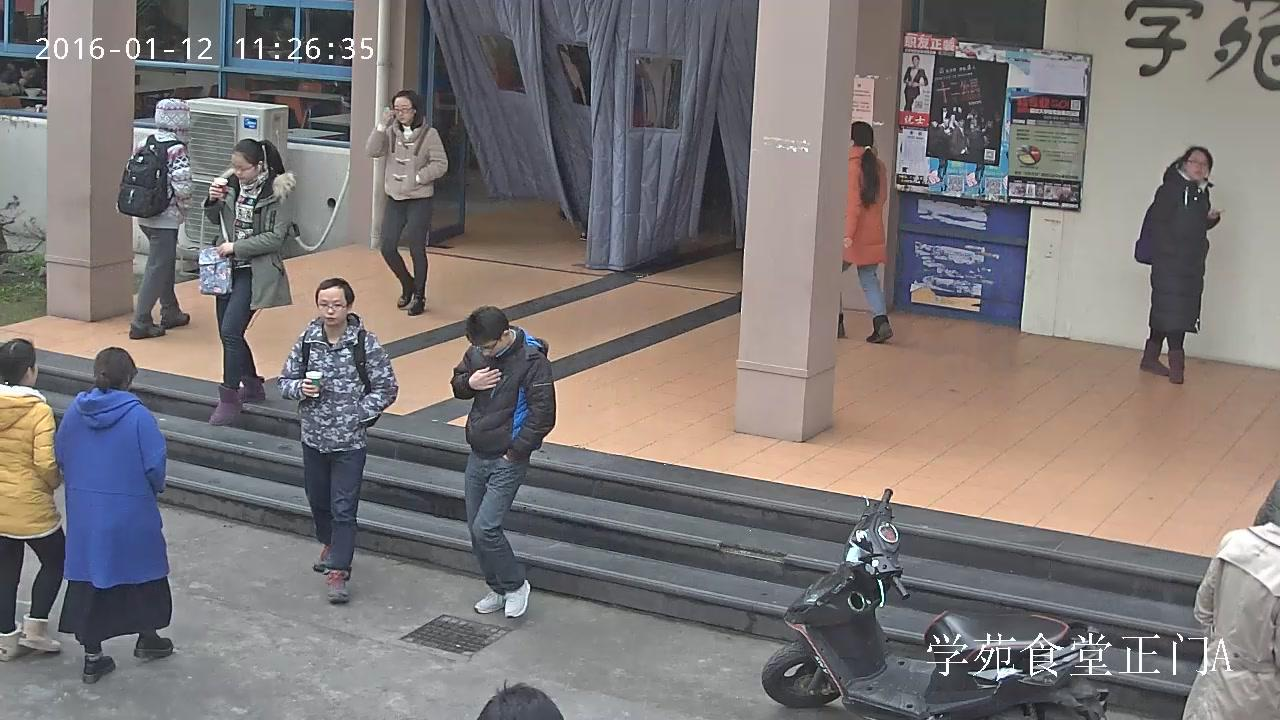person: (51, 346, 172, 685), (275, 277, 398, 603), (449, 304, 556, 619), (197, 138, 295, 426), (1180, 469, 1280, 720), (1134, 144, 1226, 384), (0, 338, 64, 660), (114, 97, 194, 340), (363, 89, 448, 314), (838, 120, 894, 343), (0, 60, 45, 96), (902, 54, 929, 111)
